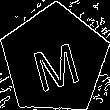M_N: (26, 30, 82, 90)
